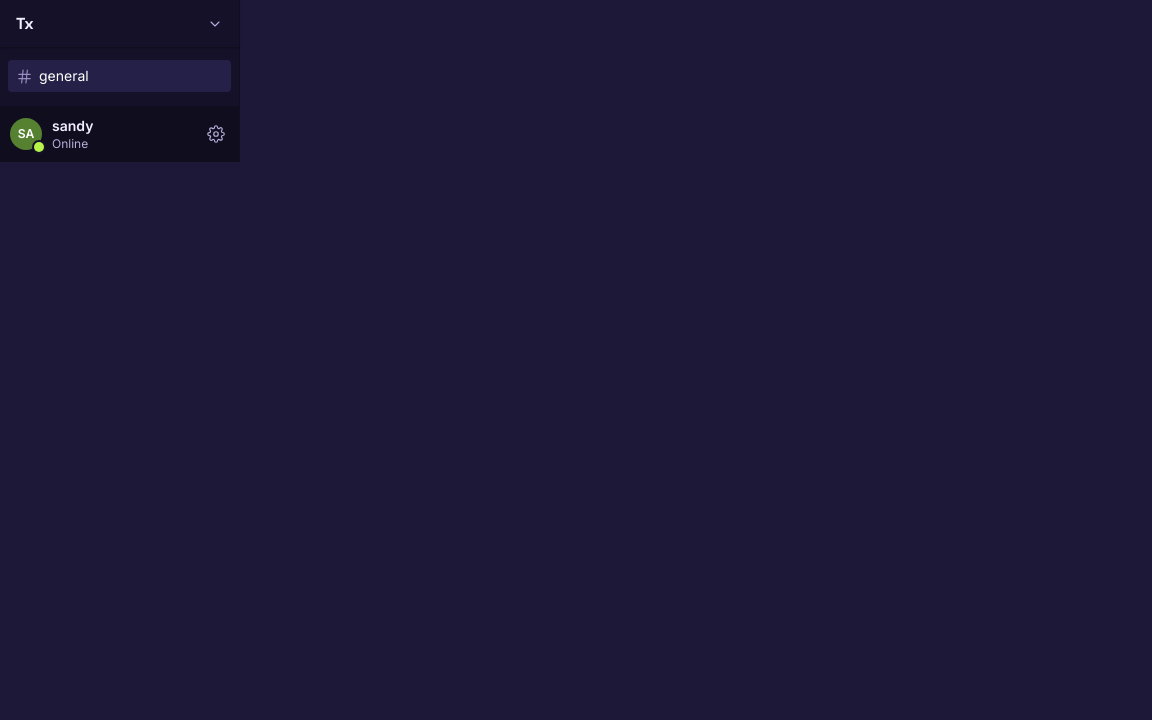
Scenario: closing with an unsaved rename asks first
Click the button "Tx" at (120, 24), box [8,0,231,47]
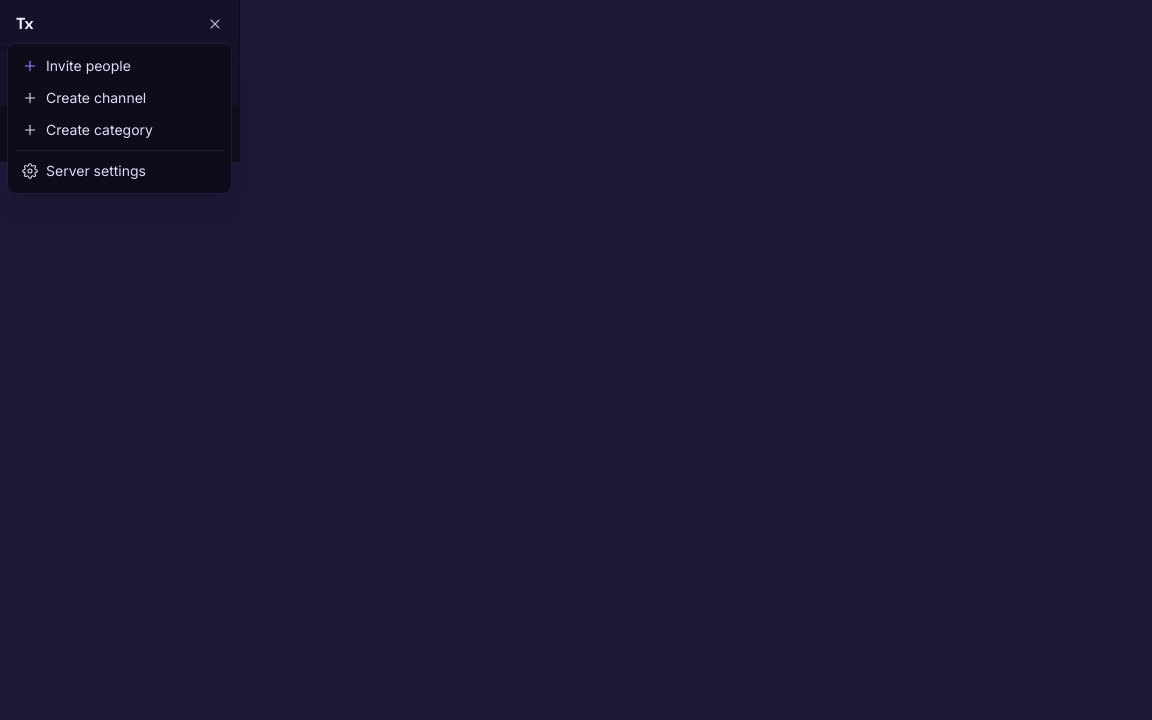
Click the button "Server settings" at (120, 171), box [14,155,225,187]
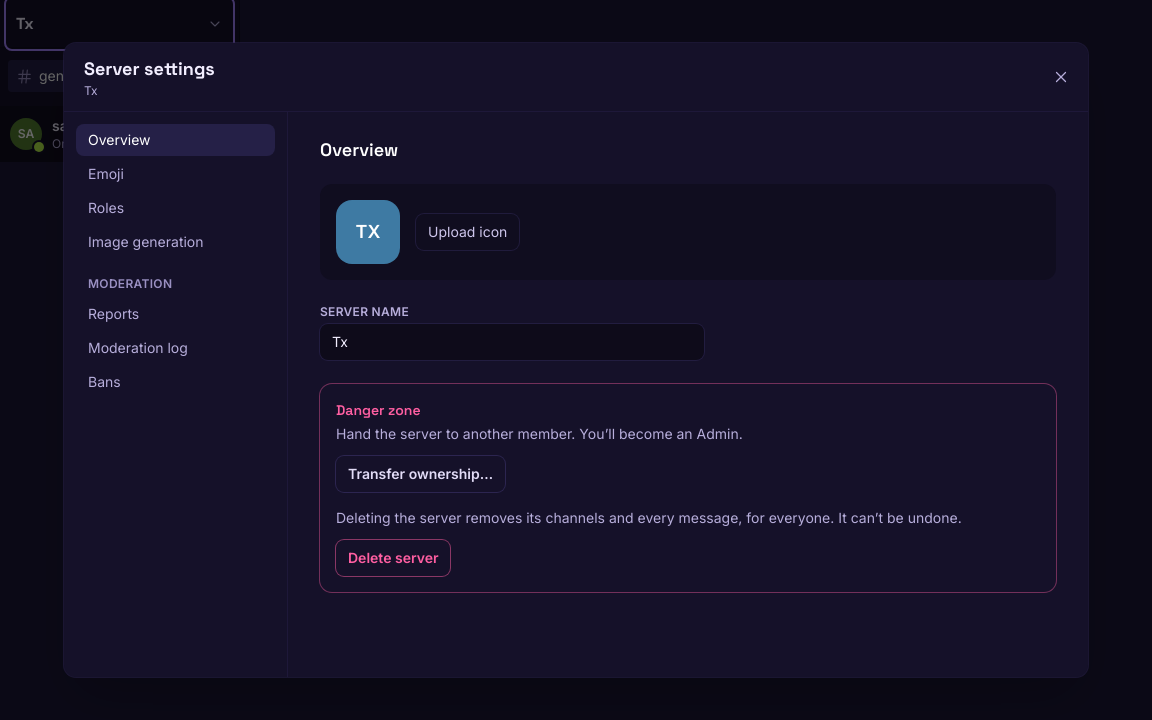
Replace the text in the field labelled "Server name" with "Other" at (512, 342), box [320,324,704,360]
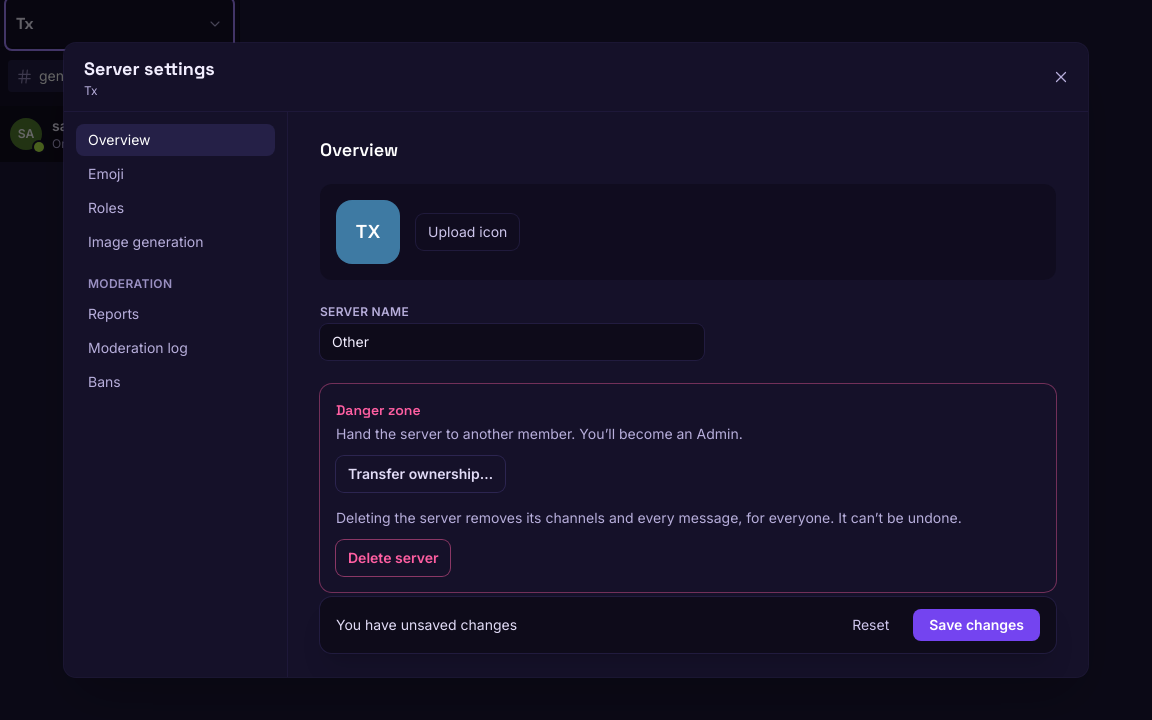
Click the button named "Close" at (1061, 77), box [1046,62,1076,92]
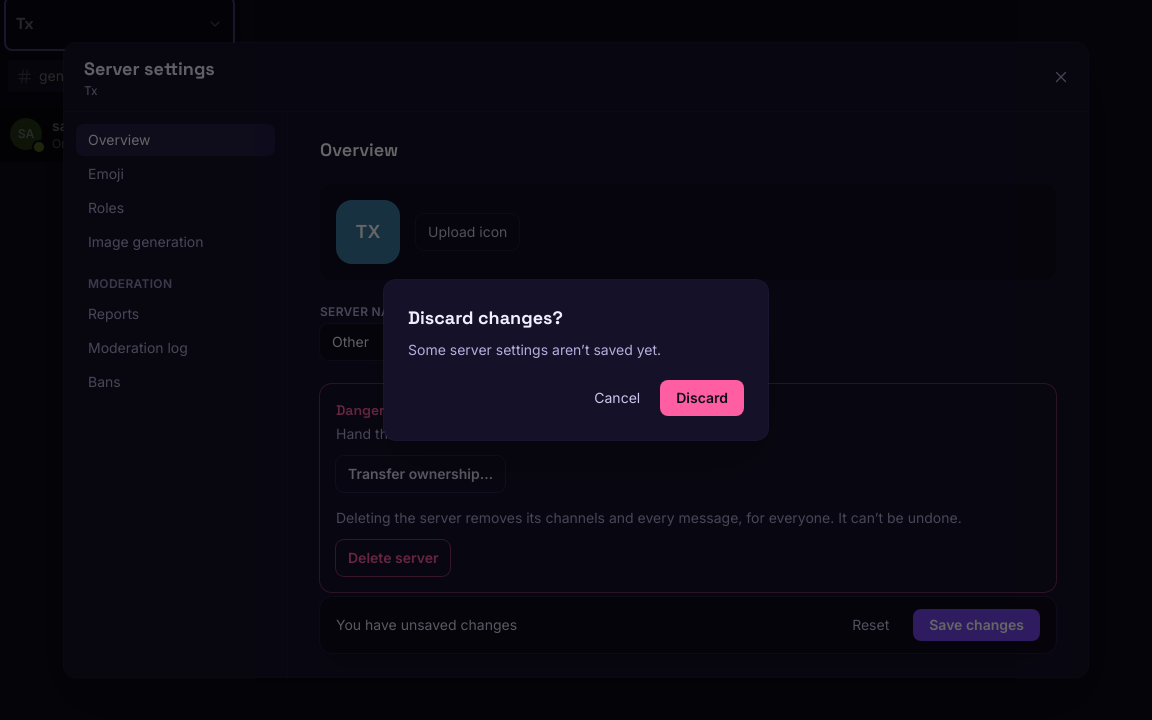
Check: the dialog "Discard changes?" is shown, box [384,280,768,440]
Click the button "Discard" at (702, 398), box [660,380,744,416]
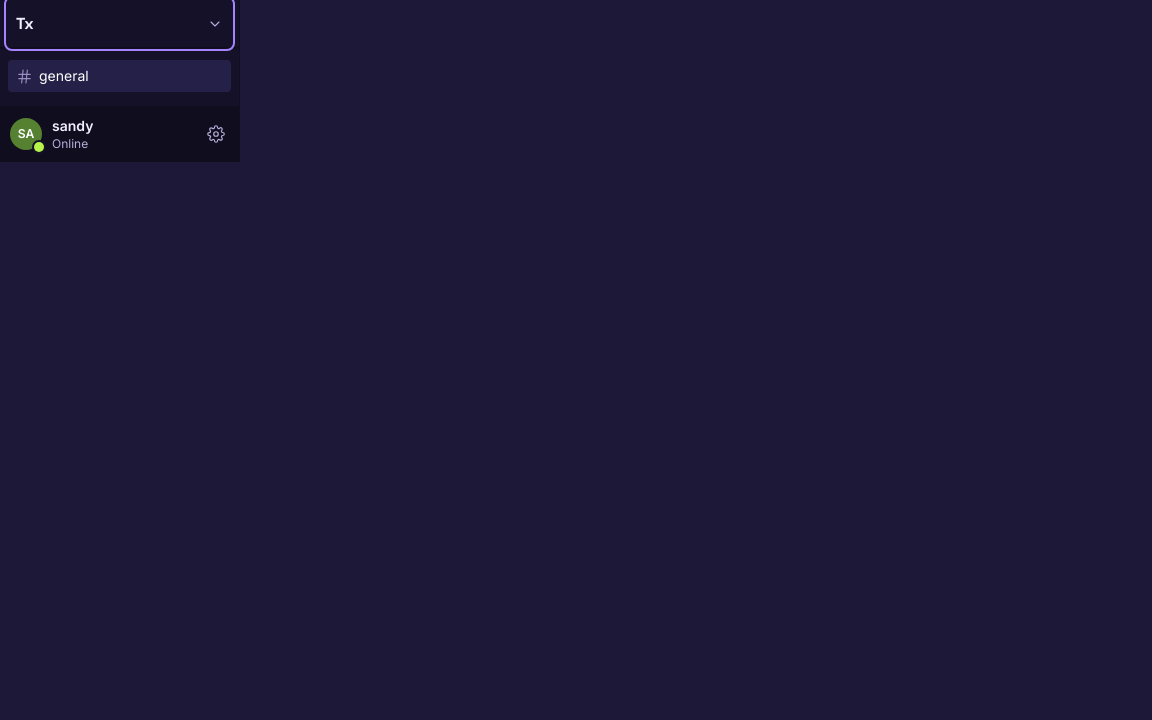
Check: the heading "Server settings" is gone
